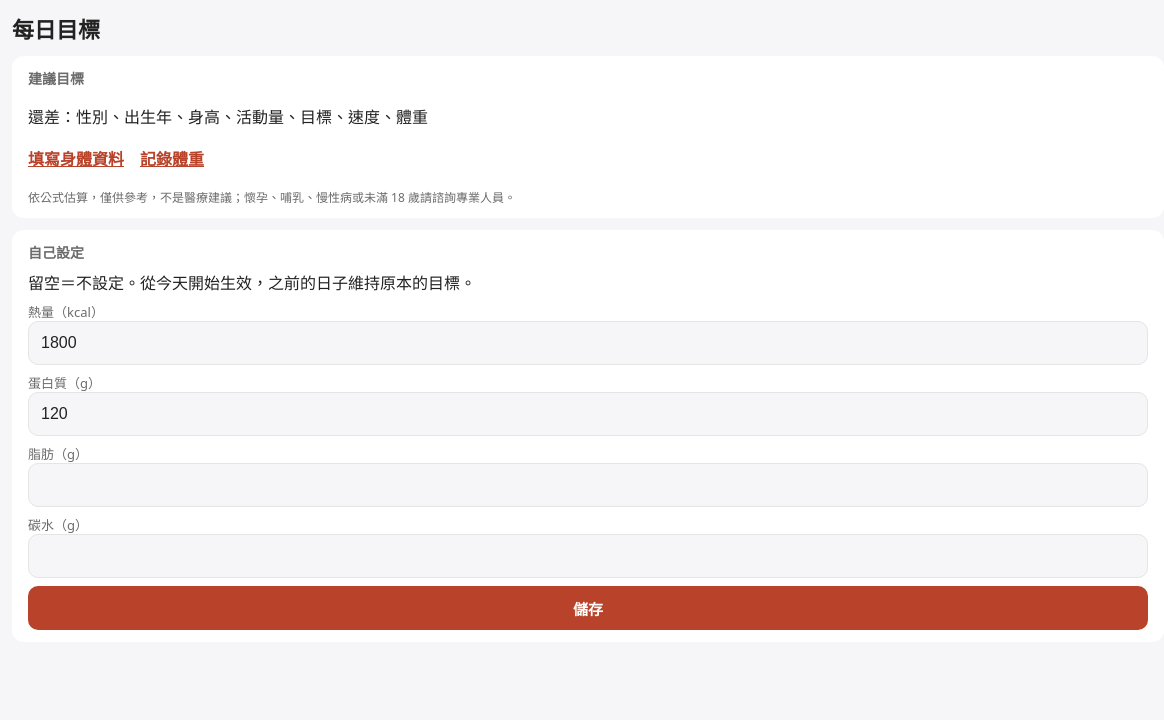
Test: /me/targets › 前端檢查：熱量 12.345 → 「熱量最多兩位小數」、不送出
This screenshot has width=1164, height=720.
Replace the text in the field labelled "熱量（kcal）" with "12.345" at (588, 343), box [28,321,1148,365]
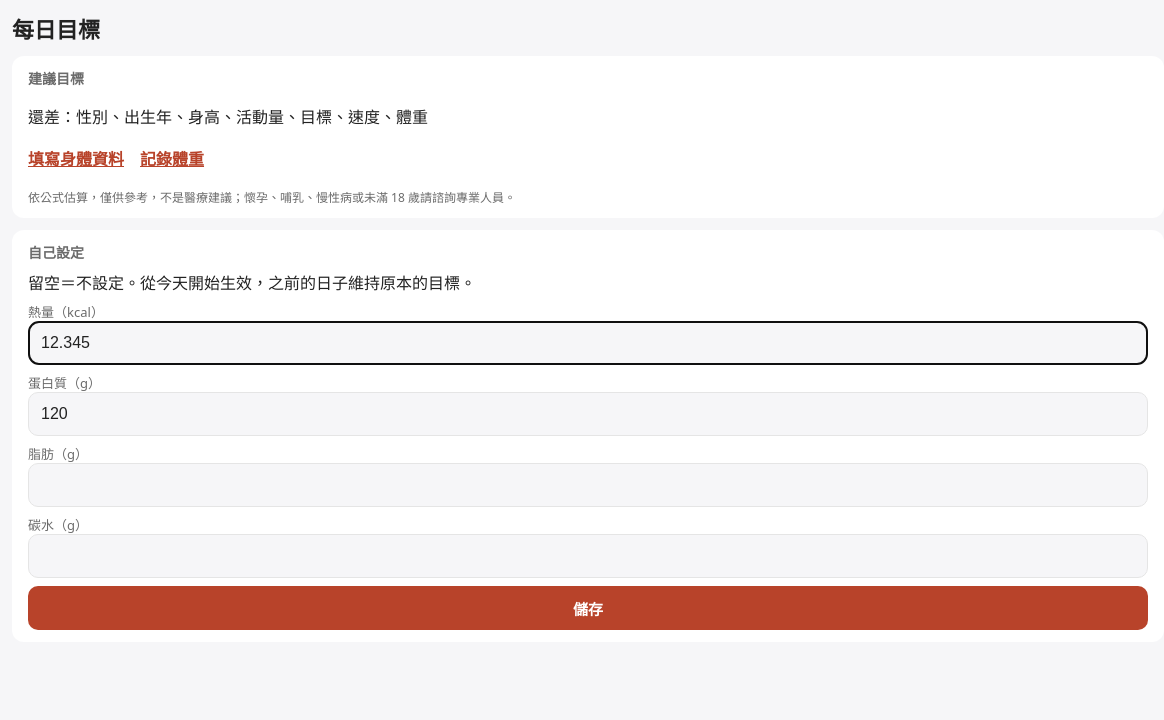
Click the button "儲存" at (588, 608), box [28,586,1148,630]
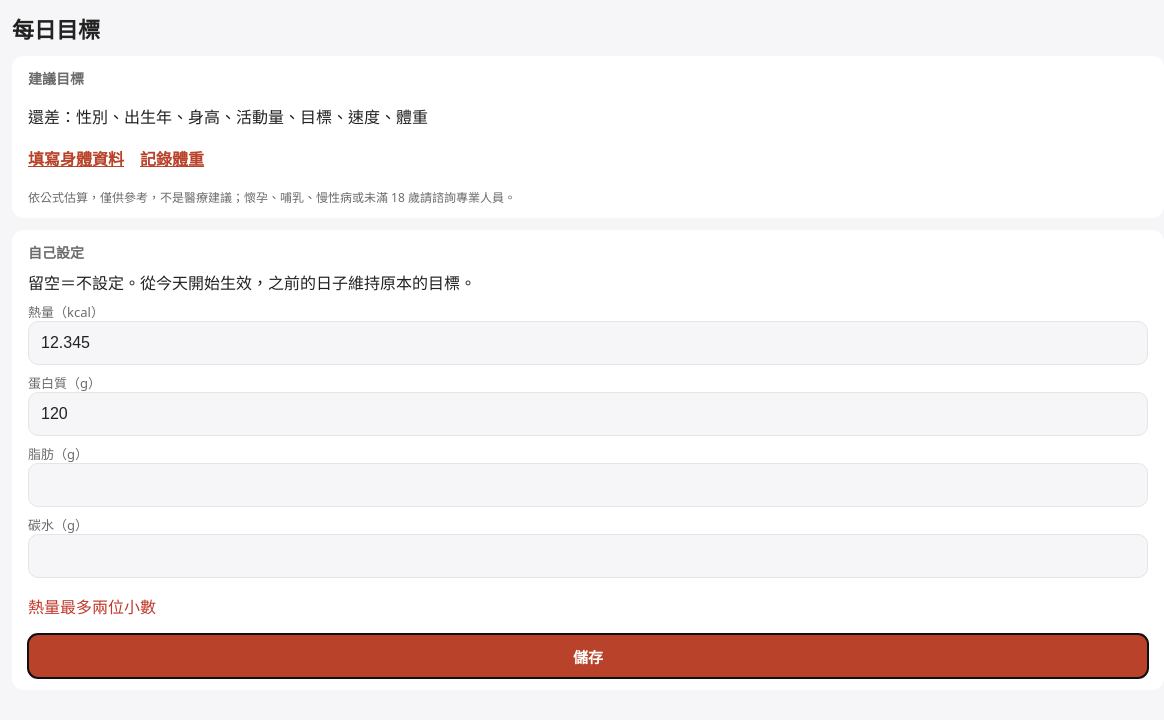
Now the message reads "熱量最多兩位小數", box [28,596,156,618]
